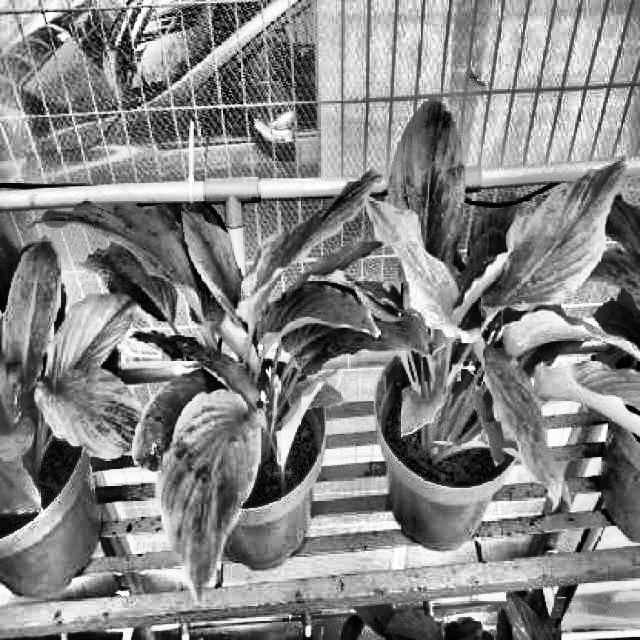plants: (31, 166, 431, 606), (308, 95, 626, 514)
